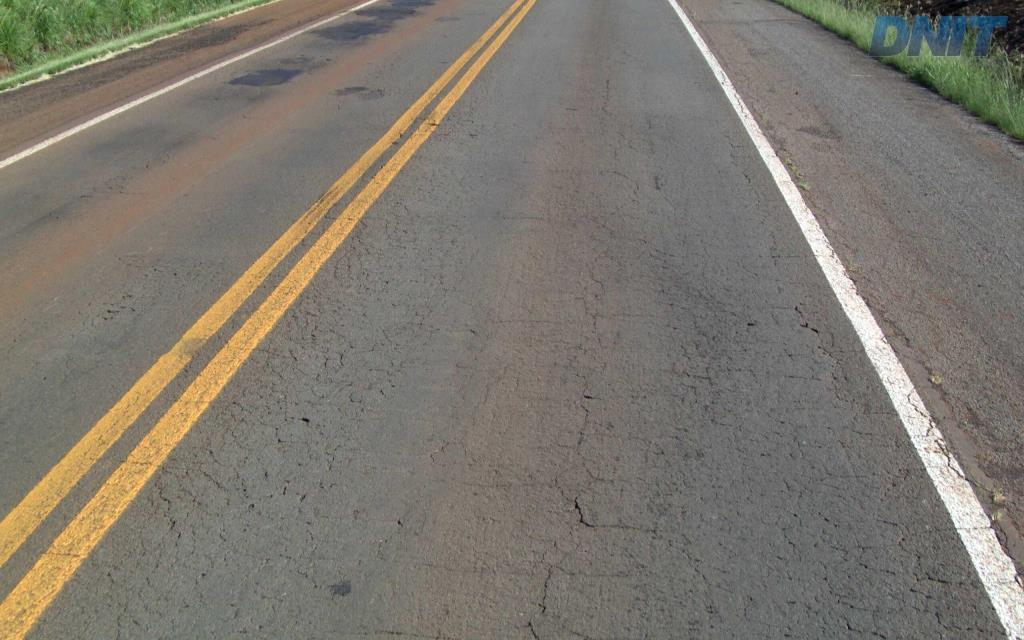crack: (924, 558, 960, 602), (934, 599, 964, 639)
